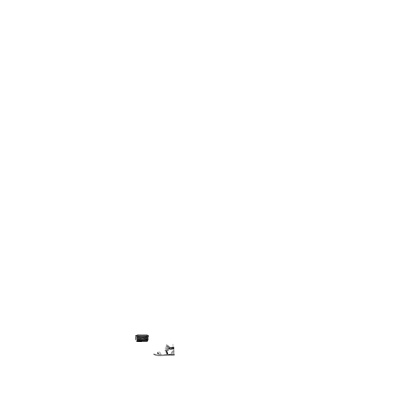5: (0, 190, 56, 246)
8: (21, 295, 63, 337)
Bag: (71, 337, 113, 379)
Sandal: (38, 62, 66, 90), (227, 179, 255, 207)
Shirt: (301, 139, 385, 223)
